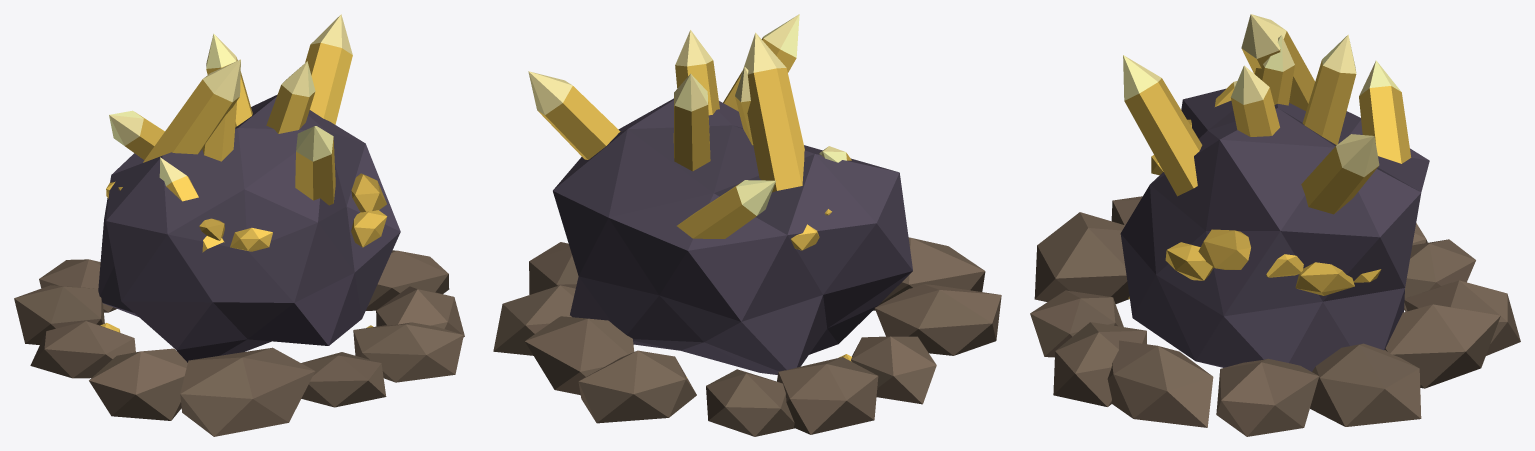
The model's file is adamant_meteor.glb.
The picture shows the model from 3 angles, left to right: view 1: azimuth 30°, elevation 25°; view 2: azimuth 150°, elevation 25°; view 3: azimuth 270°, elevation 25°; orthographic projection. The views are drawn at different scales.
Visible parts, largest first — view 1: adamant_meteor; view 2: adamant_meteor; view 3: adamant_meteor.
Boxes of the visible parts, x1,y1,x2,y2 form: adamant_meteor: (14,14,464,436); adamant_meteor: (493,14,1001,436); adamant_meteor: (1030,14,1520,436).
Bounding box in the file's own units: 3.23 × 2.26 × 3.14.
1 material, 1 textured.
